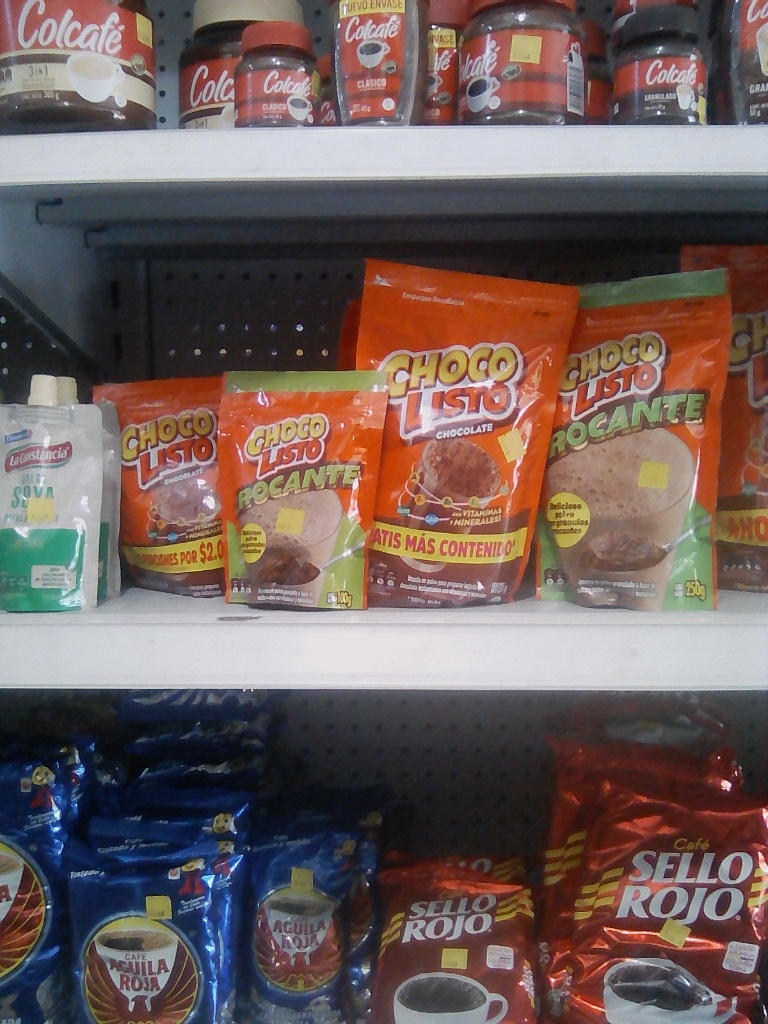COL0170102DYP10000: (217, 372, 371, 615)
COL0170102DYP25000: (531, 272, 733, 624)
COL0170103DYP10000: (102, 378, 231, 619)
COL0170103DYP20000: (342, 264, 576, 624)
